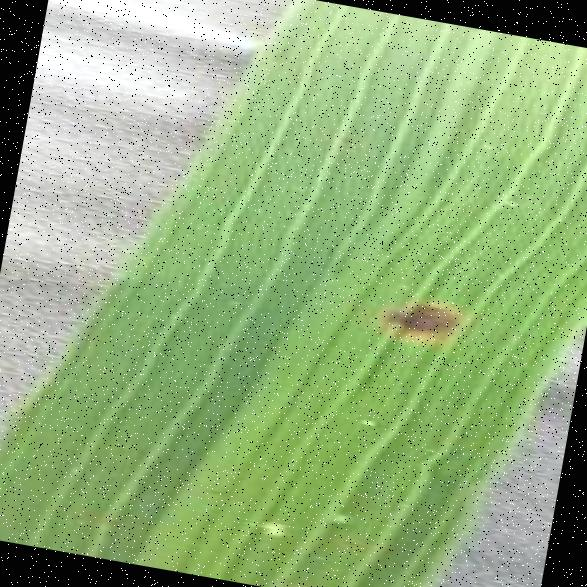Brown_Spot: (364, 274, 476, 360)
